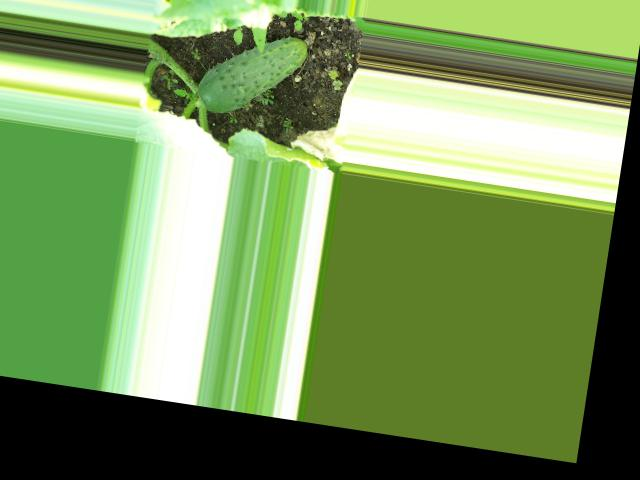cucumber: (193, 23, 309, 125)
